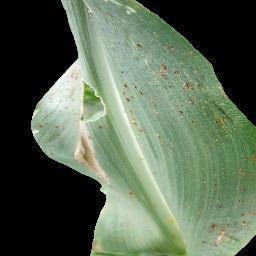Corn_Common_Rust: (68, 115, 113, 184), (42, 67, 107, 113), (119, 70, 150, 132), (201, 216, 256, 250), (150, 28, 202, 60), (30, 111, 67, 140), (112, 0, 149, 19), (78, 1, 113, 20), (156, 61, 184, 82), (210, 109, 231, 130), (184, 78, 200, 100), (127, 40, 147, 53), (170, 103, 189, 116), (243, 150, 256, 166), (124, 186, 135, 198)
